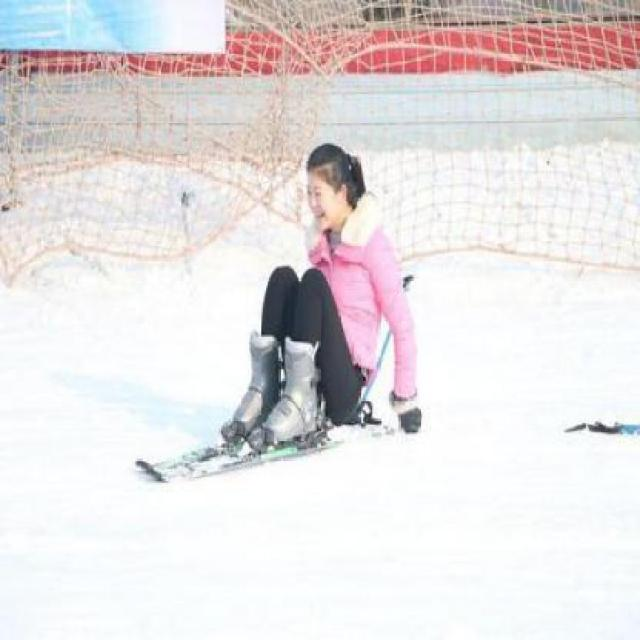fall: (212, 129, 432, 457)
